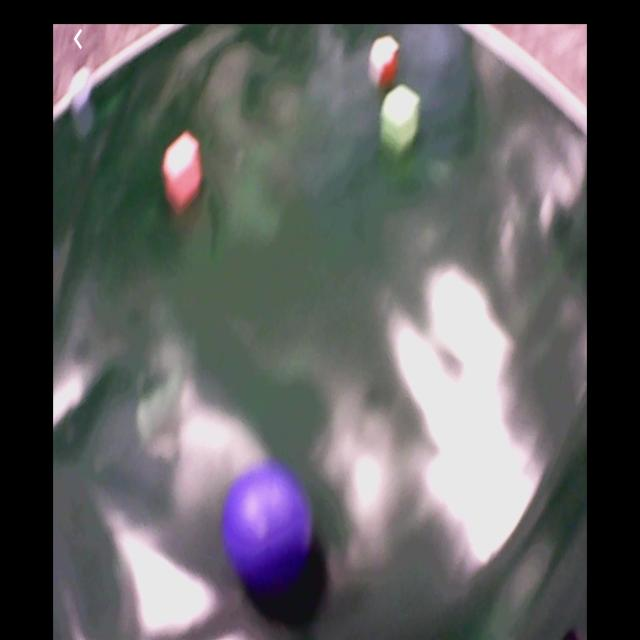ball: (225, 462, 315, 593)
